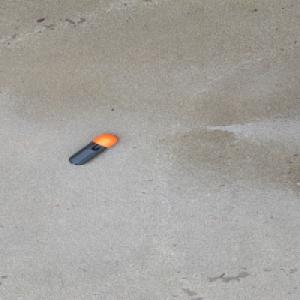PlasticPart: (67, 133, 118, 165)
